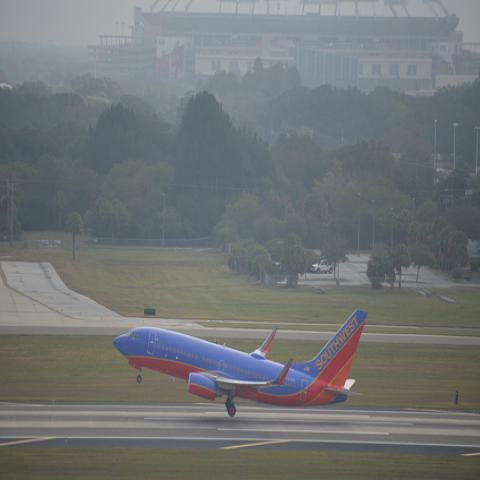car: (310, 259, 334, 275)
